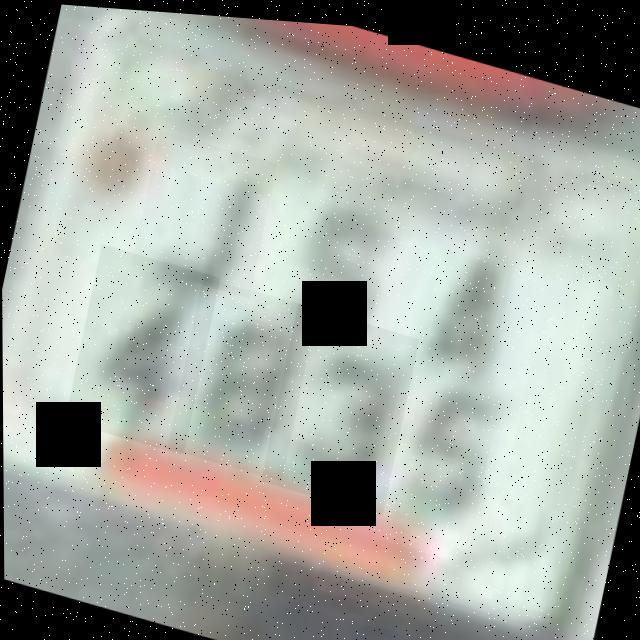3: (259, 297, 420, 512)
4: (63, 240, 220, 454)
5: (371, 332, 529, 565)
8: (166, 271, 318, 480)
A: (399, 204, 536, 390)
J: (130, 126, 277, 296)
